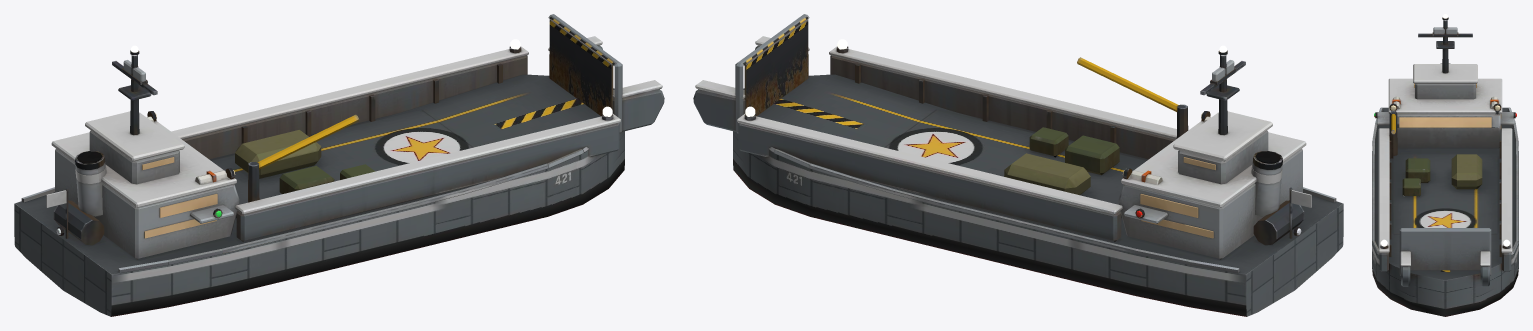
The model's file is lst.soviet.glb.
The picture shows the model from 3 angles, left to right: view 1: azimuth 30°, elevation 25°; view 2: azimuth 150°, elevation 25°; view 3: azimuth 270°, elevation 25°; orthographic projection. The views are drawn at different scales.
Visible parts, largest first — view 1: hull_mesh, ramp_mesh, doorL_mesh; view 2: hull_mesh, ramp_mesh, doorR_mesh; view 3: hull_mesh, ramp_mesh, doorR_mesh, doorL_mesh, radar_mesh.
Part boxes in pixels (x1,y1,x2,y2): hull_mesh: [14, 39, 624, 316]; ramp_mesh: [548, 14, 622, 133]; doorL_mesh: [612, 80, 664, 131]; hull_mesh: [733, 39, 1343, 316]; ramp_mesh: [735, 14, 809, 133]; doorR_mesh: [693, 80, 745, 131]; hull_mesh: [1372, 14, 1518, 316]; ramp_mesh: [1399, 228, 1491, 275]; doorR_mesh: [1480, 251, 1490, 286]; doorL_mesh: [1400, 251, 1410, 286]; radar_mesh: [1432, 27, 1458, 36].
Bounding box in the file's own units: 1.47 × 0.571 × 0.48.
3 materials, 1 textured.
